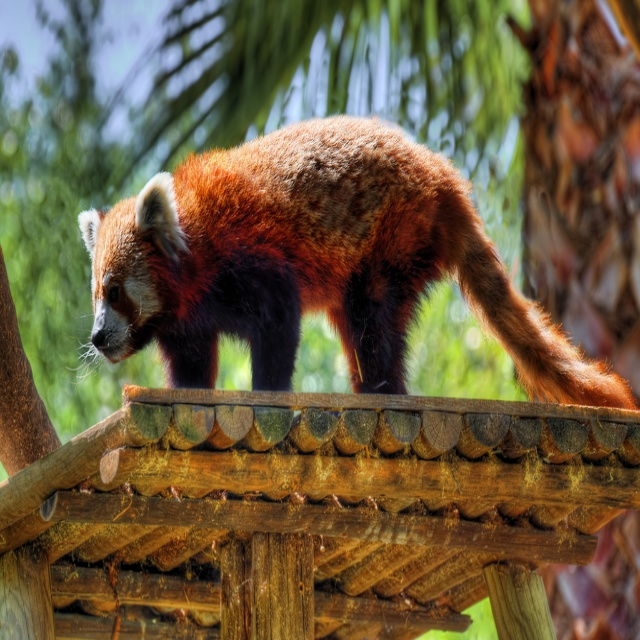Red panda: (64, 113, 640, 412)
